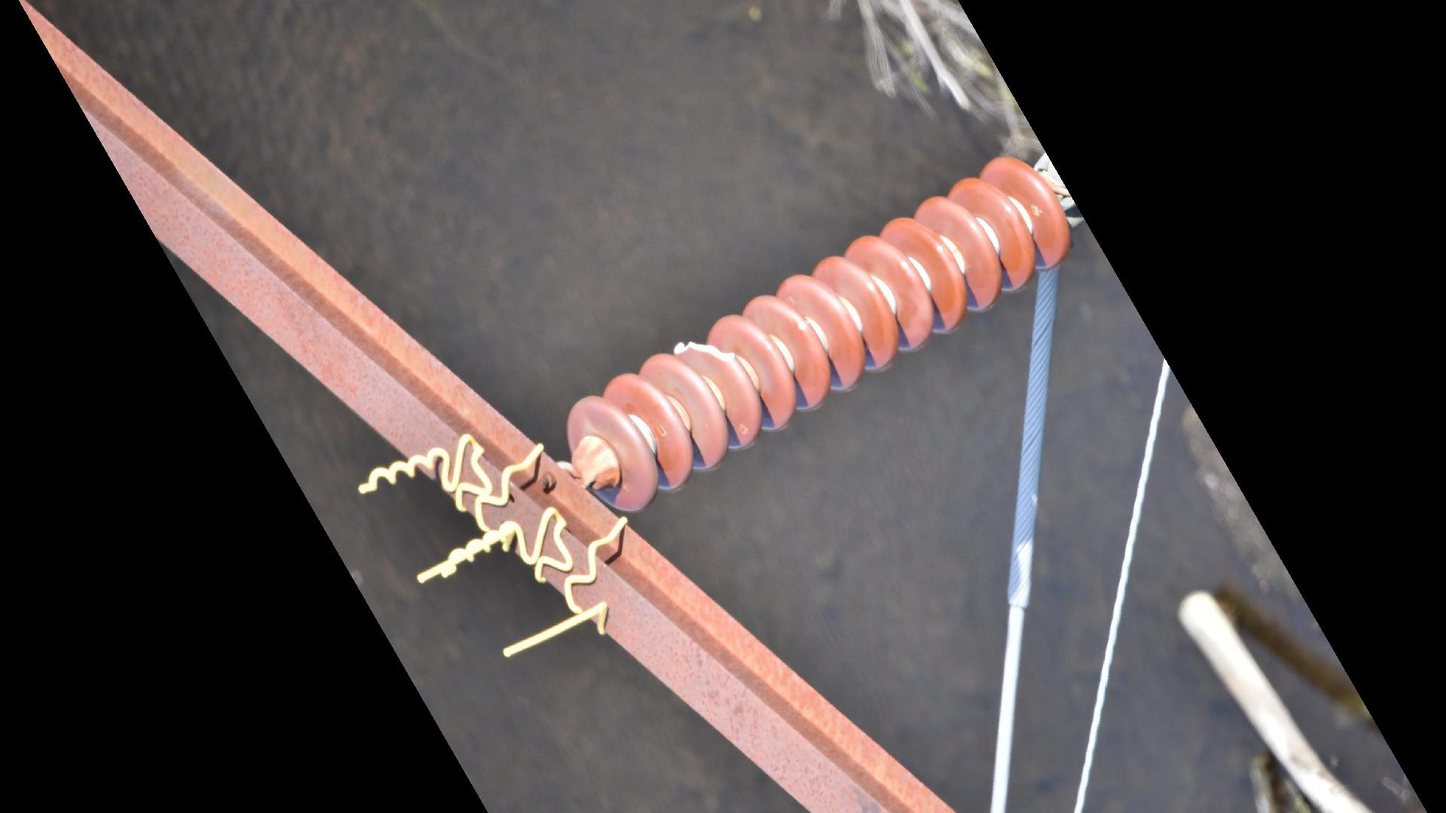insulator: (559, 149, 1075, 518)
insulator_breakage: (668, 334, 742, 370)
